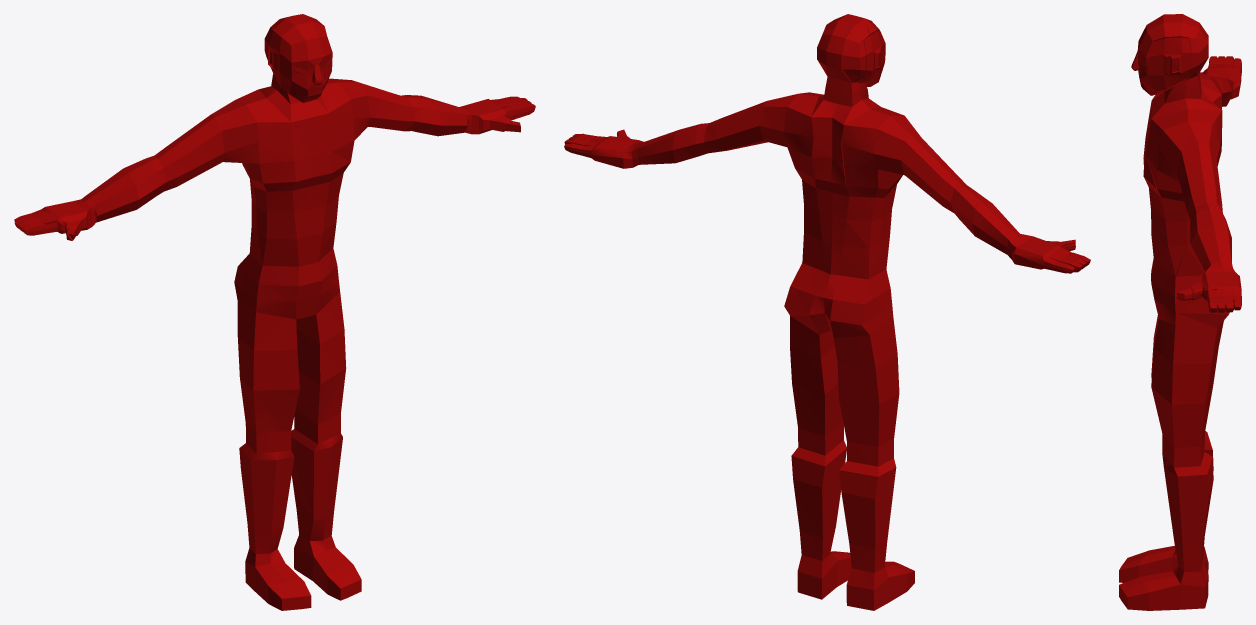
File: agent_Shattered.fbx
The picture shows the model from 3 angles, left to right: view 1: azimuth 30°, elevation 25°; view 2: azimuth 150°, elevation 25°; view 3: azimuth 270°, elevation 25°; orthographic projection.
Parts seen in each view (by area): view 1: shard3, shard7, shard2, shard6, shard4; view 2: shard3, shard7, shard2, shard6, shard9, shard4; view 3: shard3, shard2, shard6, shard7, shard1, shard5, shard8.
Boxes of the visible parts, <box> form: shard3: <box>234,222,361,610</box>; shard7: <box>14,89,350,266</box>; shard2: <box>259,14,415,162</box>; shard6: <box>401,95,531,136</box>; shard4: <box>266,29,325,102</box>; shard3: <box>790,217,914,610</box>; shard7: <box>804,107,1086,273</box>; shard2: <box>706,14,880,204</box>; shard6: <box>564,123,721,168</box>; shard9: <box>842,18,869,82</box>; shard4: <box>858,30,885,86</box>; shard3: <box>1119,245,1223,610</box>; shard2: <box>1133,14,1222,219</box>; shard6: <box>1177,202,1241,312</box>; shard7: <box>1143,56,1241,263</box>; shard1: <box>1139,37,1192,91</box>; shard5: <box>1176,245,1229,327</box>; shard8: <box>1202,289,1218,312</box>.
Bounding box in the file's own units: 172 × 182 × 35.53.
